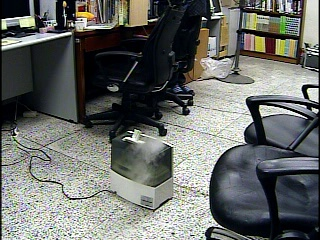smoke: (114, 133, 167, 184)
